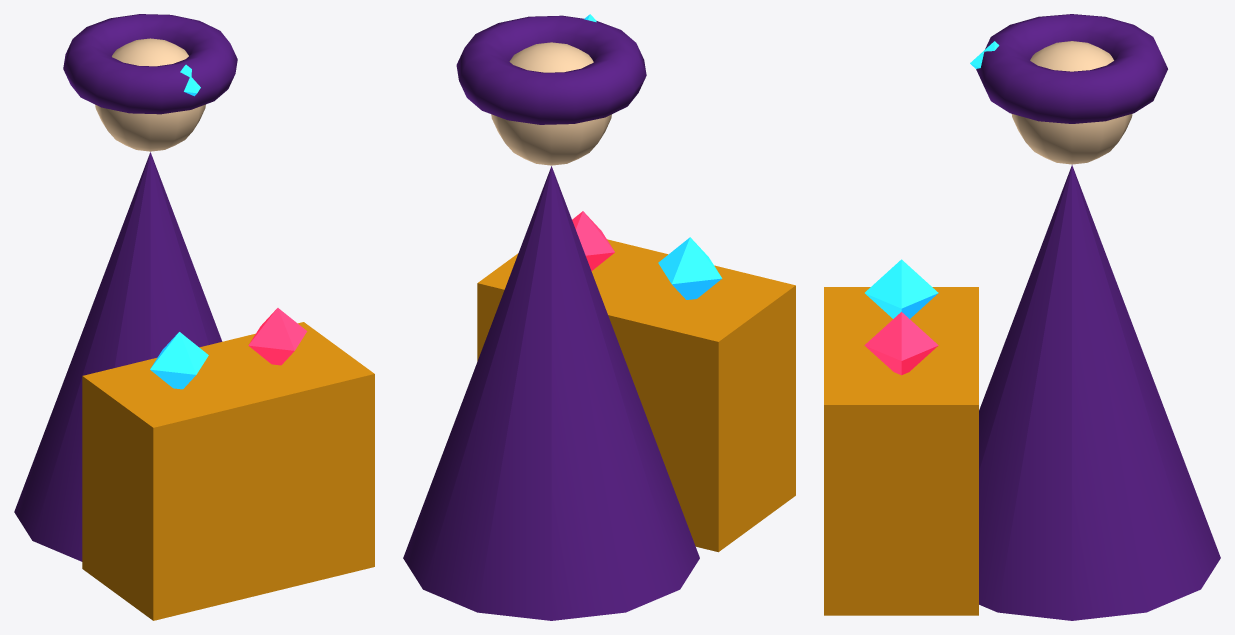
File: npc_lahap_jeweler.glb
3 renders of one model, left to right at view 1: azimuth 30°, elevation 25°; view 2: azimuth 150°, elevation 25°; view 3: azimuth 270°, elevation 25°, orthographic. The views are drawn at different scales.
Visible parts, largest first — view 1: NPC_LAHAP_THE_JEWELER; view 2: NPC_LAHAP_THE_JEWELER; view 3: NPC_LAHAP_THE_JEWELER.
Part boxes in pixels (x1,y1,x2,y2): NPC_LAHAP_THE_JEWELER: (14,14,374,620); NPC_LAHAP_THE_JEWELER: (403,14,795,620); NPC_LAHAP_THE_JEWELER: (824,14,1220,620).
Bounding box in the file's own units: 0.96 × 1.84 × 1.28.
